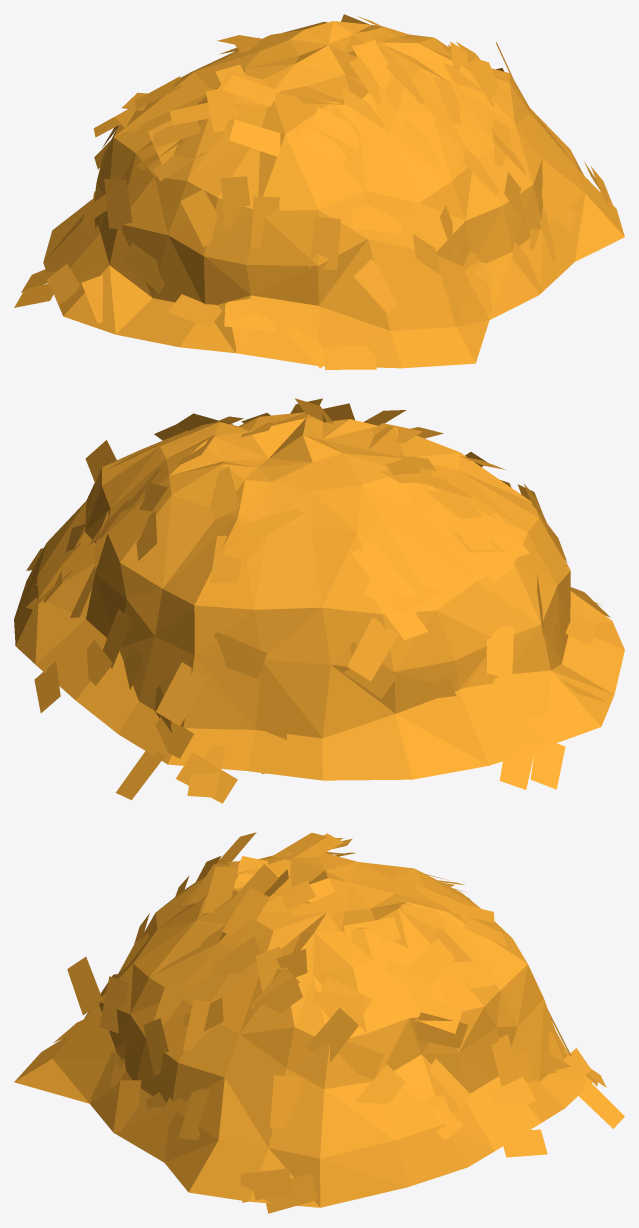
File: SM_Hay_Pile_Dry.fbx
3 renders of one model, top to bottom at view 1: azimuth 30°, elevation 25°; view 2: azimuth 150°, elevation 25°; view 3: azimuth 270°, elevation 25°, orthographic. The views are drawn at different scales.
Visible parts, largest first — view 1: hay-pile-dry; view 2: hay-pile-dry; view 3: hay-pile-dry.
Part boxes in pixels (x1,y1,x2,y2): hay-pile-dry: (14, 14, 624, 369); hay-pile-dry: (14, 398, 624, 803); hay-pile-dry: (14, 832, 624, 1213).
Size of the model in its own units: 2.01 by 0.8851 by 1.97.
